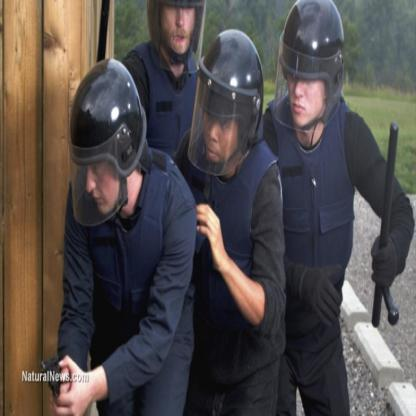face: (85, 125, 126, 218), (205, 75, 242, 170), (290, 34, 326, 127), (163, 3, 195, 55)
